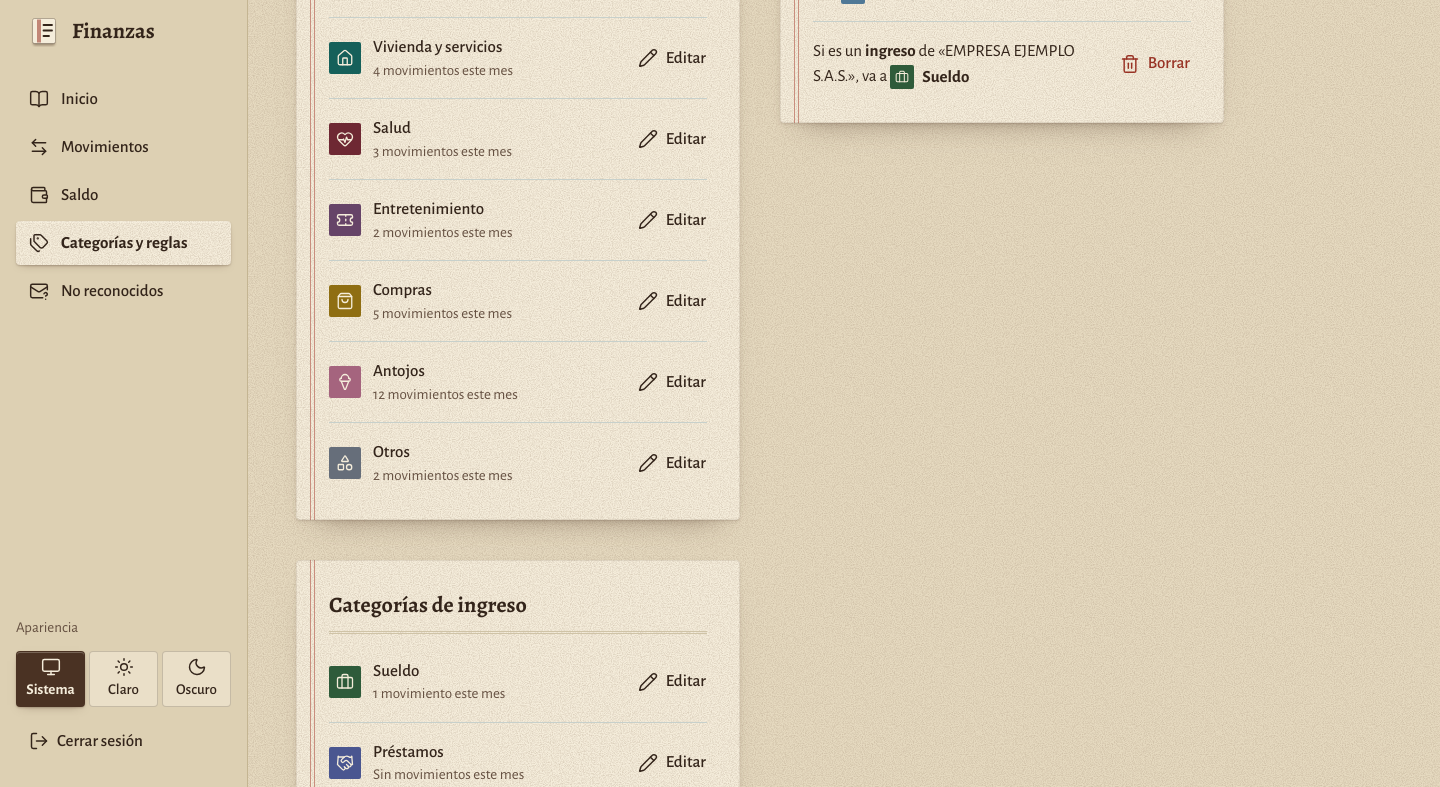
Test: Categorías y reglas › muestra el error de la API en el formulario
(page scrolled)
Click the button named "Editar Antojos": coordinates (672, 382) [625,360,719,404]
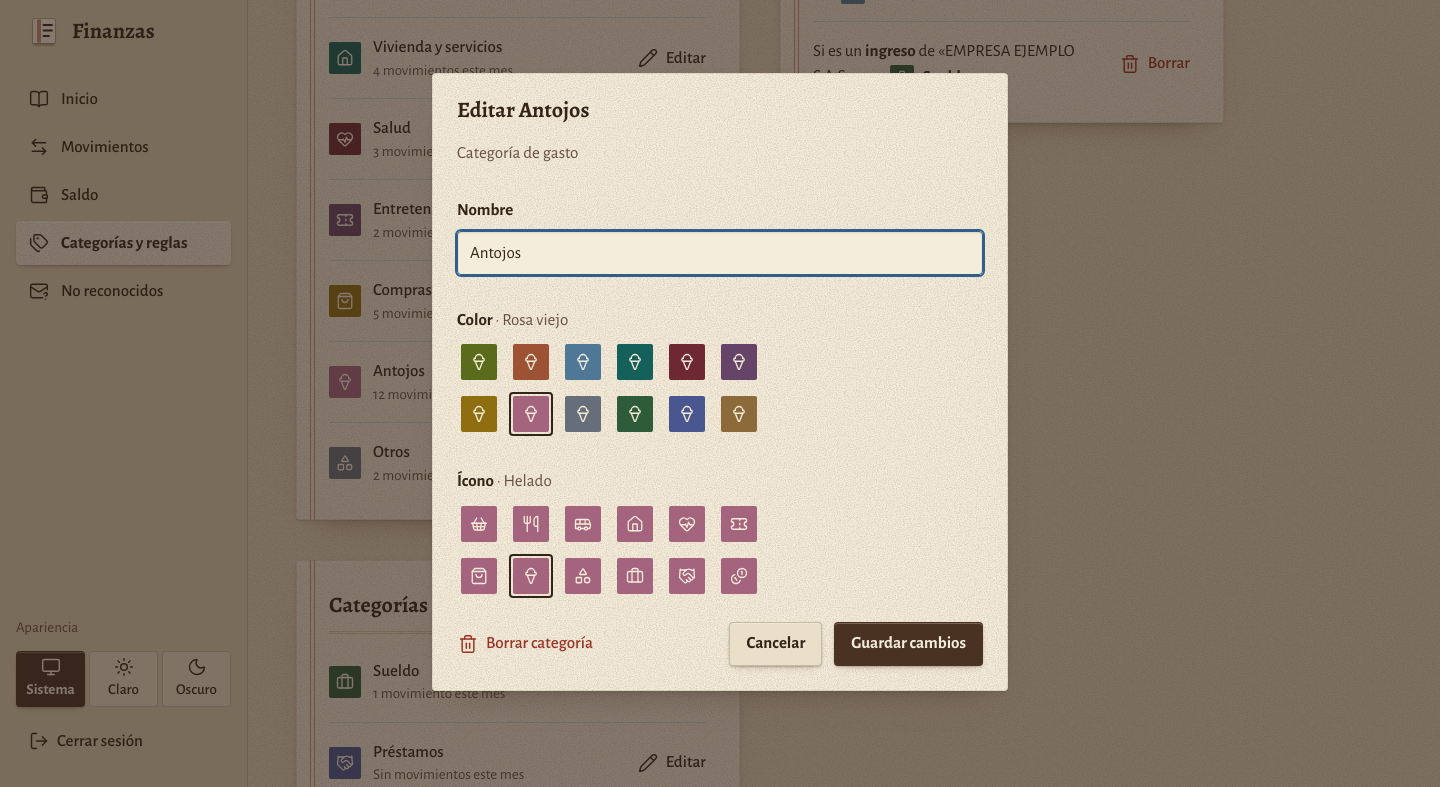
Replace the text in the field labelled "Nombre" with "Caprichos": coordinates (720, 253) [457,231,983,275]
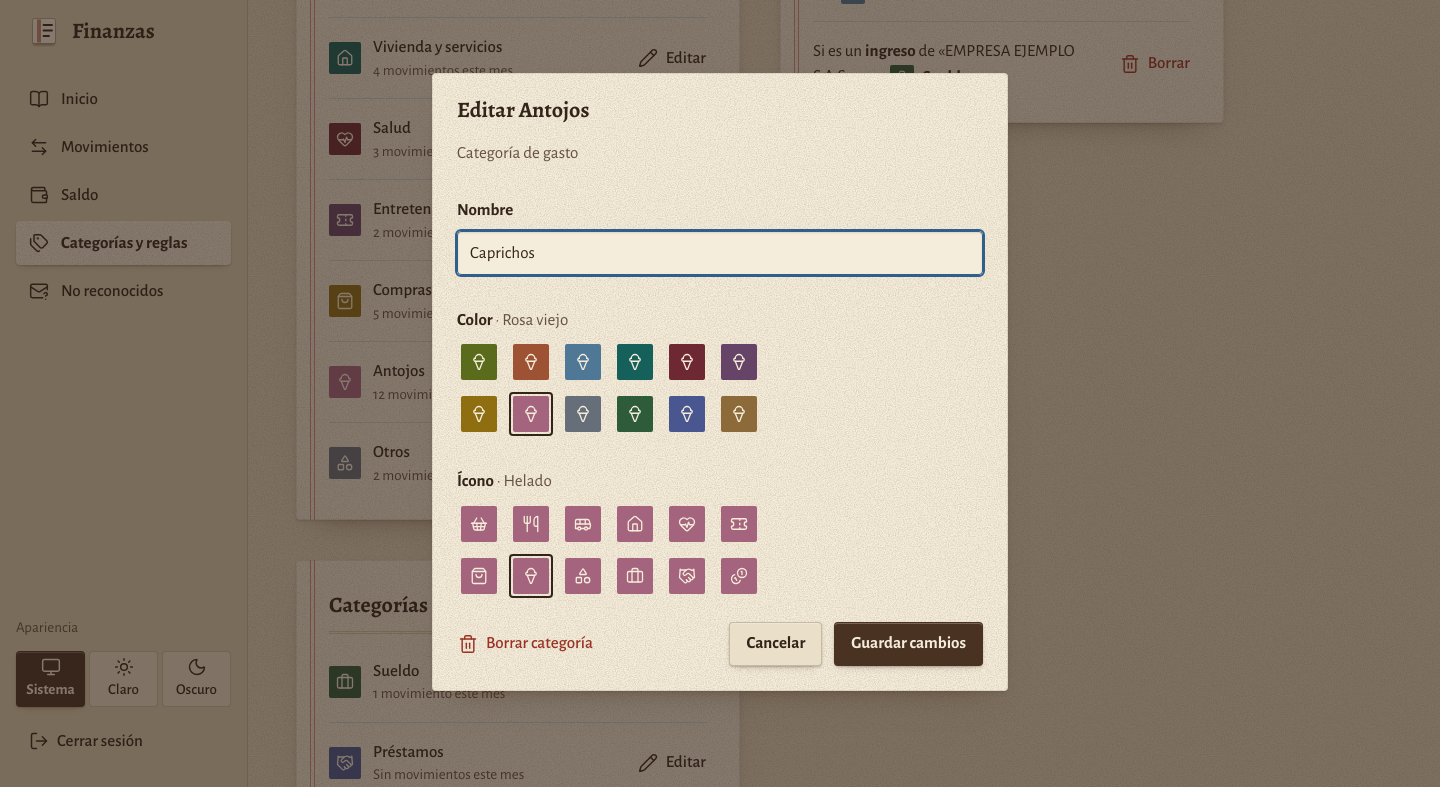
Click the button "Guardar cambios": coordinates (909, 644) [834,622,983,666]
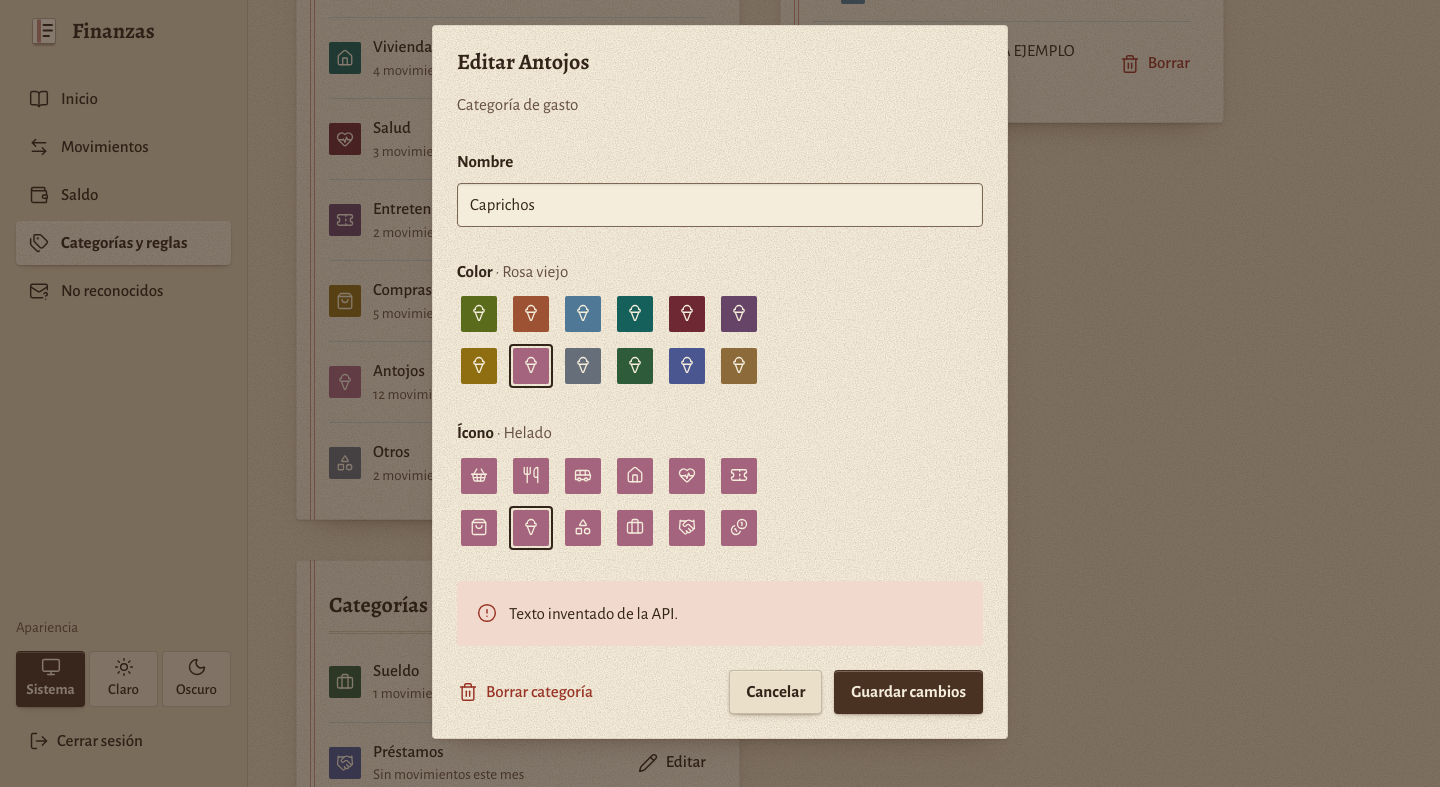
Check: the message reads "Texto inventado de la API.", box [509,605,678,622]
